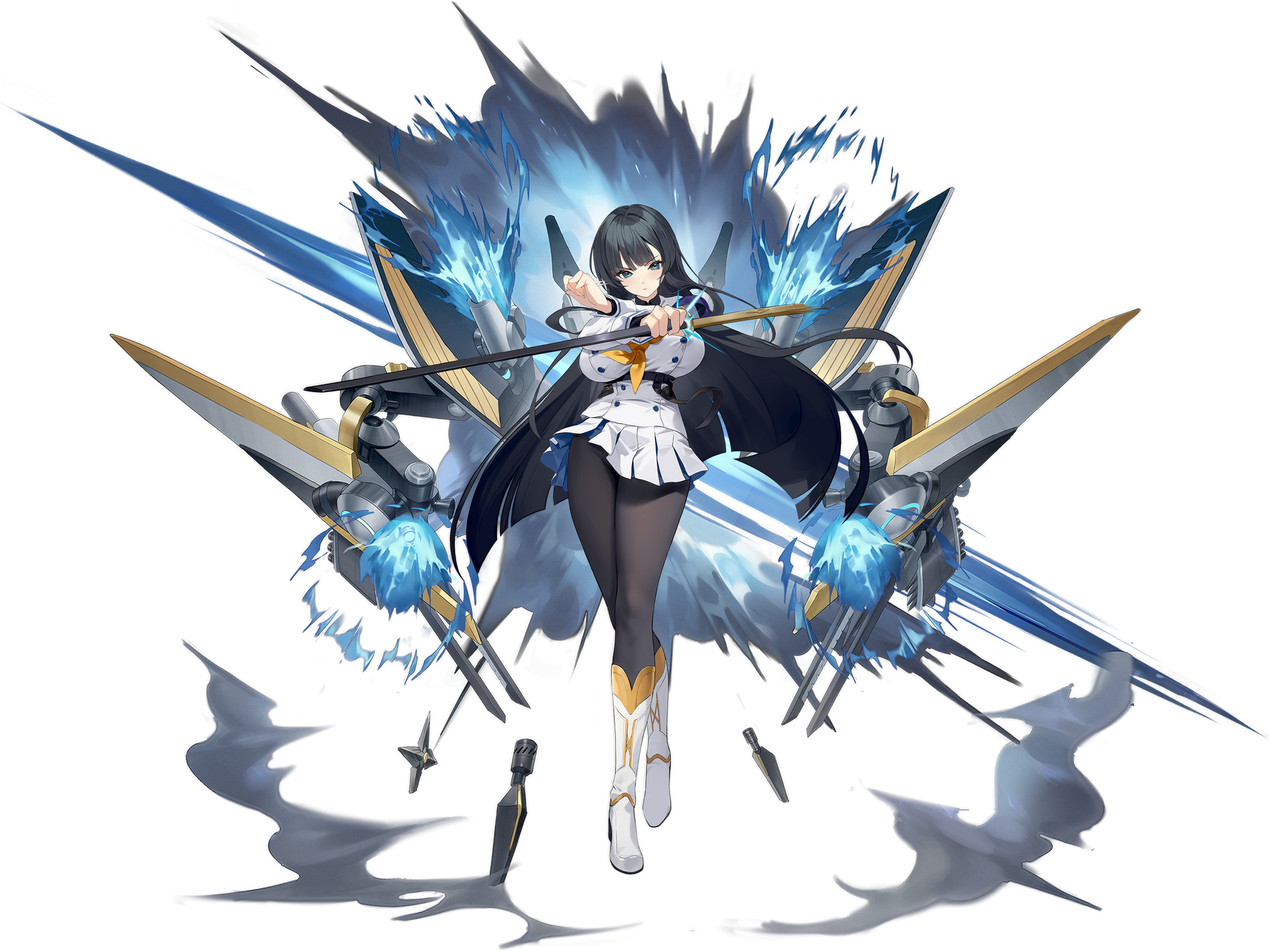person: (436, 161, 892, 919)
